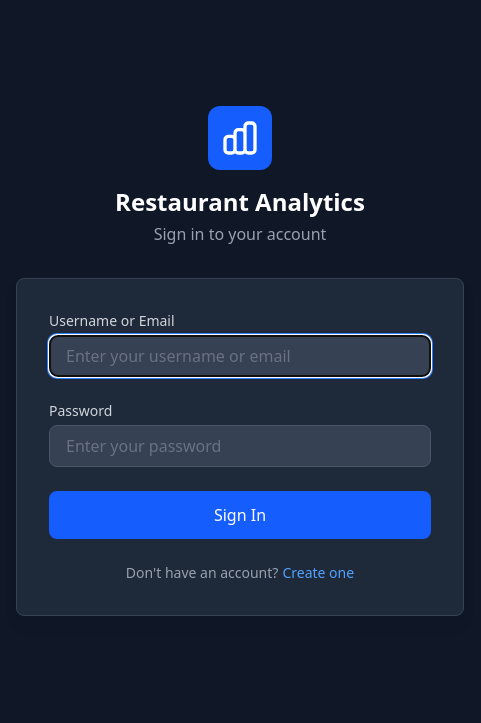
Scenario: Login Page - Registration › clears error when switching modes
The image size is (481, 723).
// Trigger an error
Click the button "Sign In" at (240, 515), box [49,491,431,539]
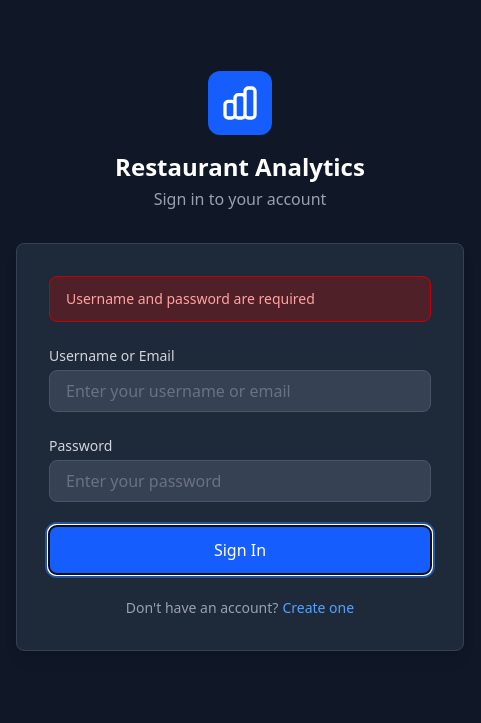
Now the text "Username and password are required" is shown, box [49,276,431,322]
// Switch to register mode
Click the button "Create one" at (318, 608), box [282,598,354,618]
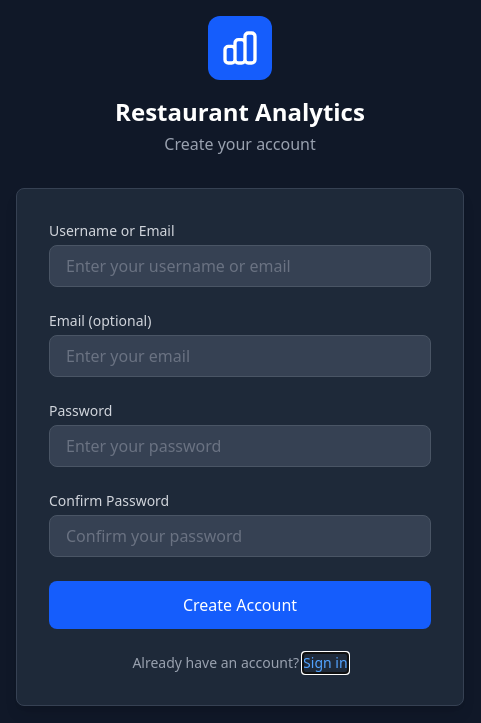
Now the text "Username and password are required" is gone
